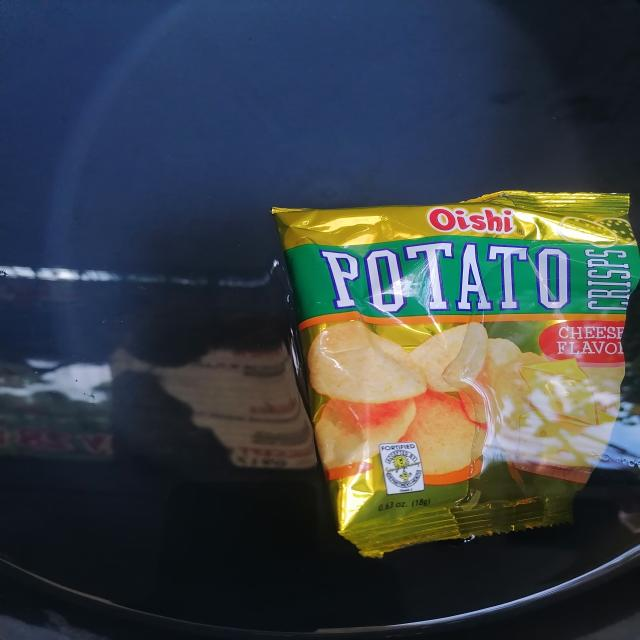Plastic Wrapper: (272, 191, 640, 557)
